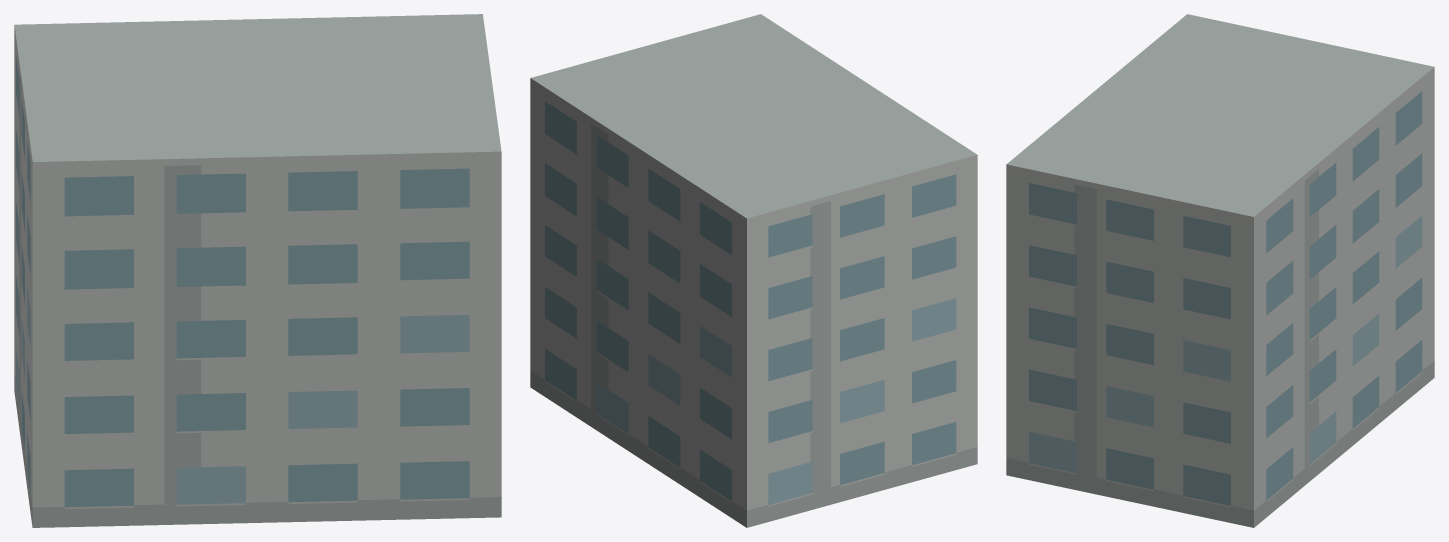
The model's file is survey-upis-32972855.glb.
3 renders of one model, left to right at view 1: azimuth 30°, elevation 25°; view 2: azimuth 150°, elevation 25°; view 3: azimuth 270°, elevation 25°, orthographic. The views are drawn at different scales.
Visible parts, largest first — view 1: survey-upis-32972855.tmp; view 2: survey-upis-32972855.tmp; view 3: survey-upis-32972855.tmp.
Boxes of the visible parts, x1,y1,x2,y2 form: survey-upis-32972855.tmp: [14, 14, 501, 527]; survey-upis-32972855.tmp: [530, 14, 977, 527]; survey-upis-32972855.tmp: [1006, 14, 1434, 527].
Size of the model in its own units: 18.35 by 13.1 by 16.36.
